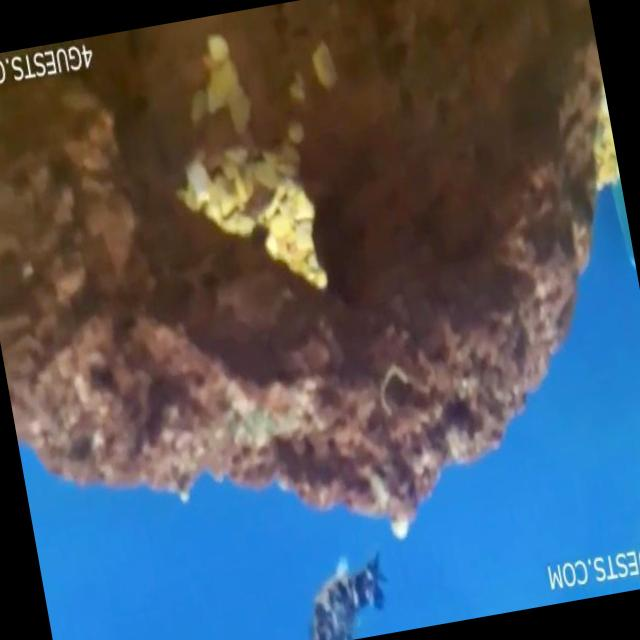PlatyFish: (283, 539, 405, 640)
